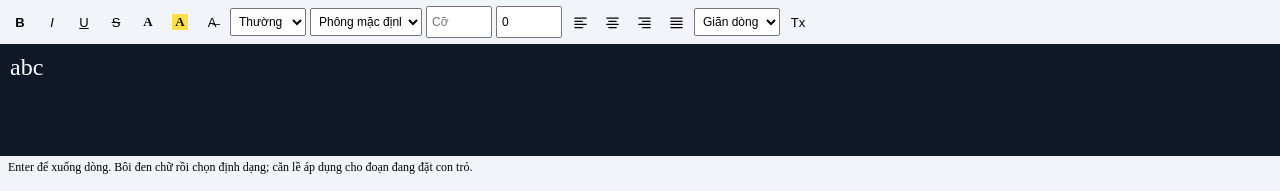
Test: RichEditor › không bôi đen thì nhắc người dùng và không đổi nội dung
The image size is (1280, 191).
Click the button named "In nghiêng". click: [52, 22]
box: x1=38 y1=8 x2=66 y2=36
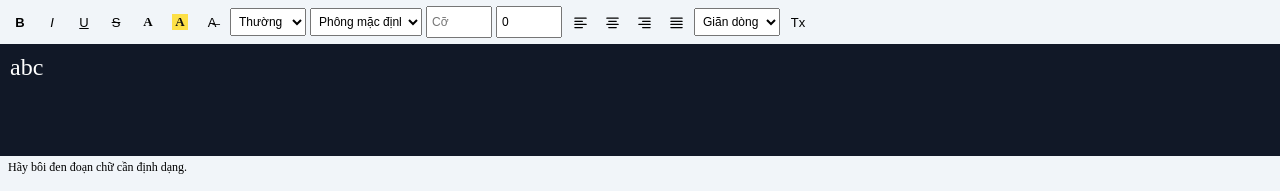
Expected: the text "Hãy bôi đen đoạn chữ cần định dạng." is shown, x1=8 y1=160 x2=187 y2=174
